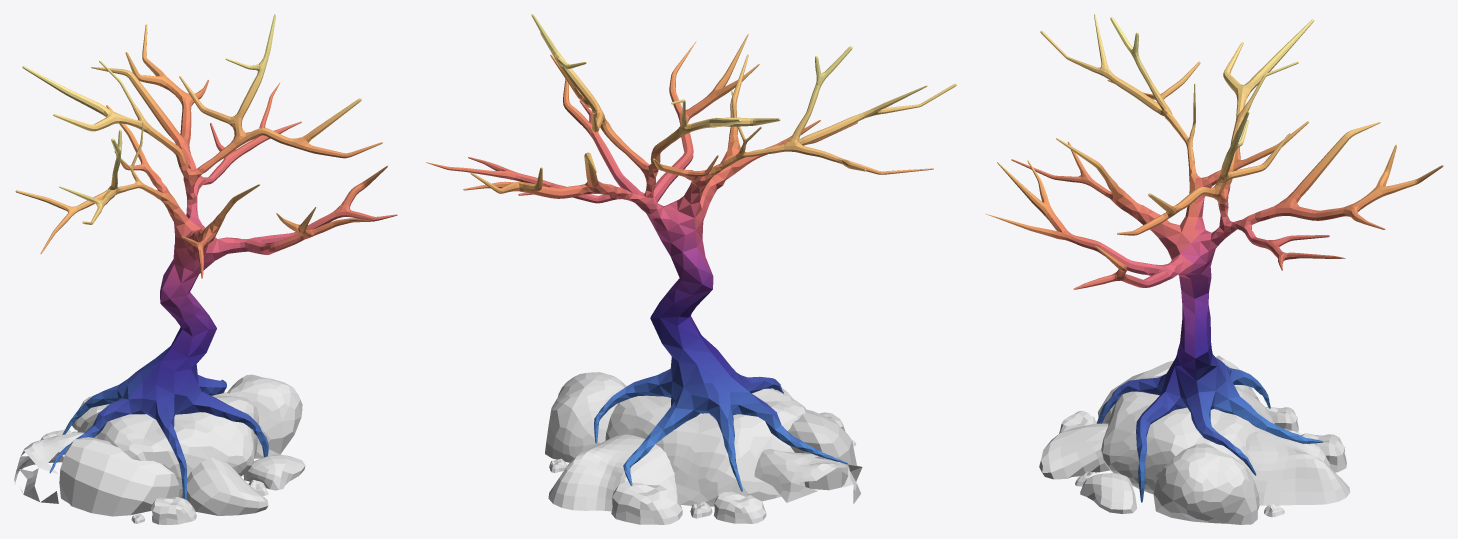
File: sakura tree_3D ilman lehtiä.glb
3 views of the same model, side by side, from view 1: azimuth 30°, elevation 25°; view 2: azimuth 150°, elevation 25°; view 3: azimuth 270°, elevation 25° (orthographic). The views are drawn at different scales.
Visible parts, largest first — view 1: tree.004, 1 Rock_large, Cube.021, 3 rock_medium, Cube.018, 2 rock_medium, Cube.019, 4 rock_small.001; view 2: tree.004, 1 Rock_large, Cube.017, 3 rock_medium, 2 rock_medium, Cube.021, 4 rock_small.002, 4 rock_small; view 3: tree.004, 1 Rock_large, 3 rock_medium, Cube.017, Cube.018, Cube.019, 4 rock_small.002, 4 rock_small, Cube.021.
Boxes of the visible parts, box(x1,y1,x2,y2) form: tree.004: box(15, 14, 397, 499); 1 Rock_large: box(77, 392, 258, 497); Cube.021: box(59, 437, 179, 516); 3 rock_medium: box(227, 374, 302, 458); Cube.018: box(181, 457, 268, 515); 2 rock_medium: box(14, 432, 84, 503); Cube.019: box(243, 454, 305, 490); 4 rock_small.001: box(151, 497, 196, 524); tree.004: box(426, 14, 956, 491); 1 Rock_large: box(605, 388, 807, 506); Cube.017: box(548, 434, 676, 511); 3 rock_medium: box(545, 372, 626, 462); 2 rock_medium: box(754, 449, 862, 503); Cube.021: box(787, 409, 856, 490); 4 rock_small.002: box(611, 481, 682, 524); 4 rock_small: box(714, 491, 766, 523); tree.004: box(985, 14, 1443, 502); 1 Rock_large: box(1101, 375, 1274, 493); 3 rock_medium: box(1153, 443, 1259, 524); Cube.017: box(1246, 429, 1350, 505); Cube.018: box(1039, 423, 1109, 479); Cube.019: box(1080, 473, 1137, 513); 4 rock_small.002: box(1301, 433, 1346, 472); 4 rock_small: box(1266, 407, 1298, 431); Cube.021: box(1098, 360, 1173, 423).
Size of the model in its own units: 3.65 by 3.97 by 3.9.
Materials: 1 (1 with a texture image).
